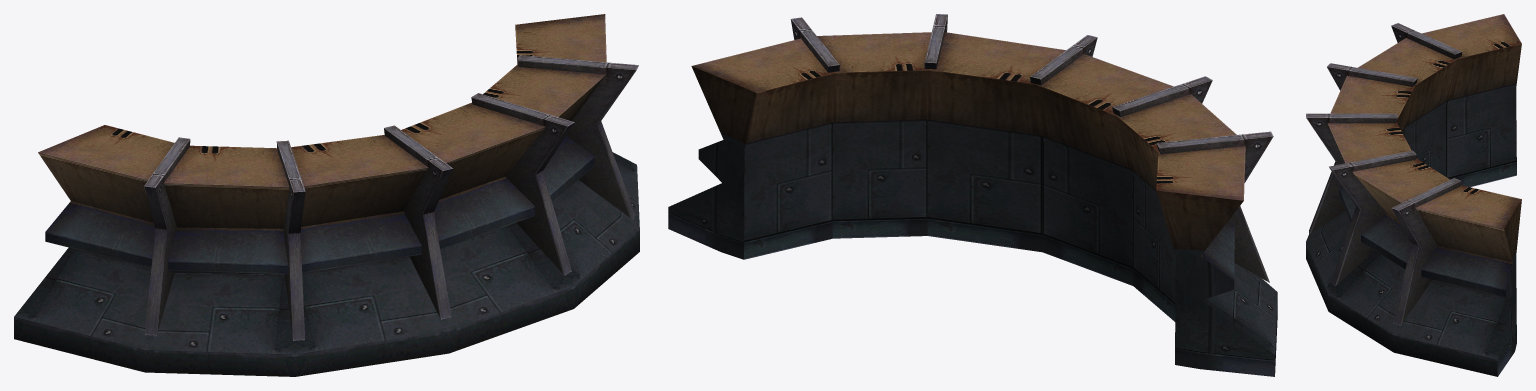
File: yw_yiwangfeixu_baobian02.FBX
3 renders of one model, left to right at view 1: azimuth 30°, elevation 25°; view 2: azimuth 150°, elevation 25°; view 3: azimuth 270°, elevation 25°, orthographic. The views are drawn at different scales.
Parts seen in each view (by area): view 1: yw_yiwangfeixu_baobian02; view 2: yw_yiwangfeixu_baobian02; view 3: yw_yiwangfeixu_baobian02.
Boxes of the visible parts, x1=… form: yw_yiwangfeixu_baobian02: x1=14, y1=14, x2=639, y2=376; yw_yiwangfeixu_baobian02: x1=668, y1=14, x2=1277, y2=376; yw_yiwangfeixu_baobian02: x1=1306, y1=14, x2=1521, y2=376.
Size of the model in its own units: 806 by 229 by 312.
